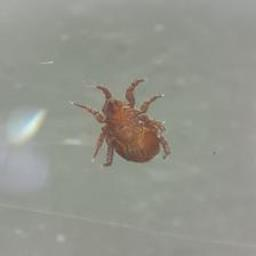Rhipicephalus sanguineus: (71, 77, 173, 167)
